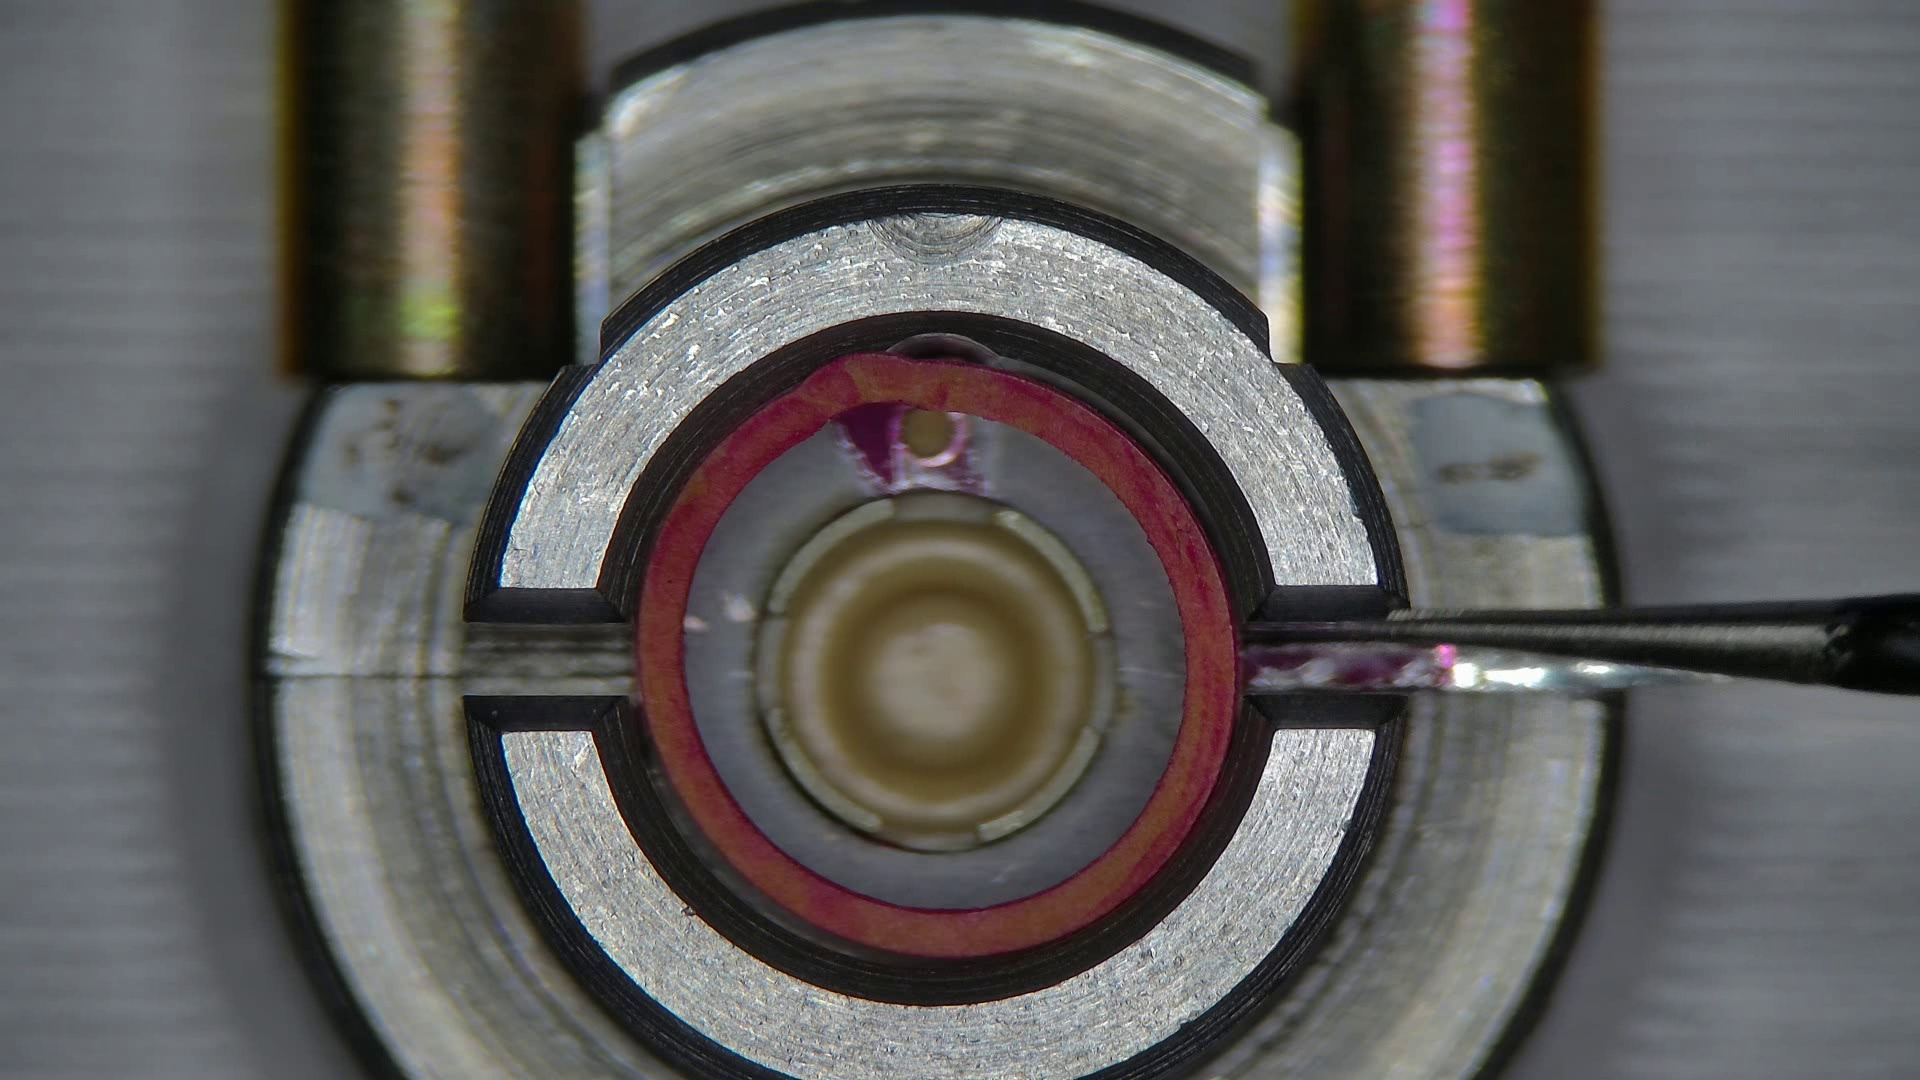GreyOring: (636, 351, 1238, 957)
YellowOring: (686, 405, 1184, 909)
